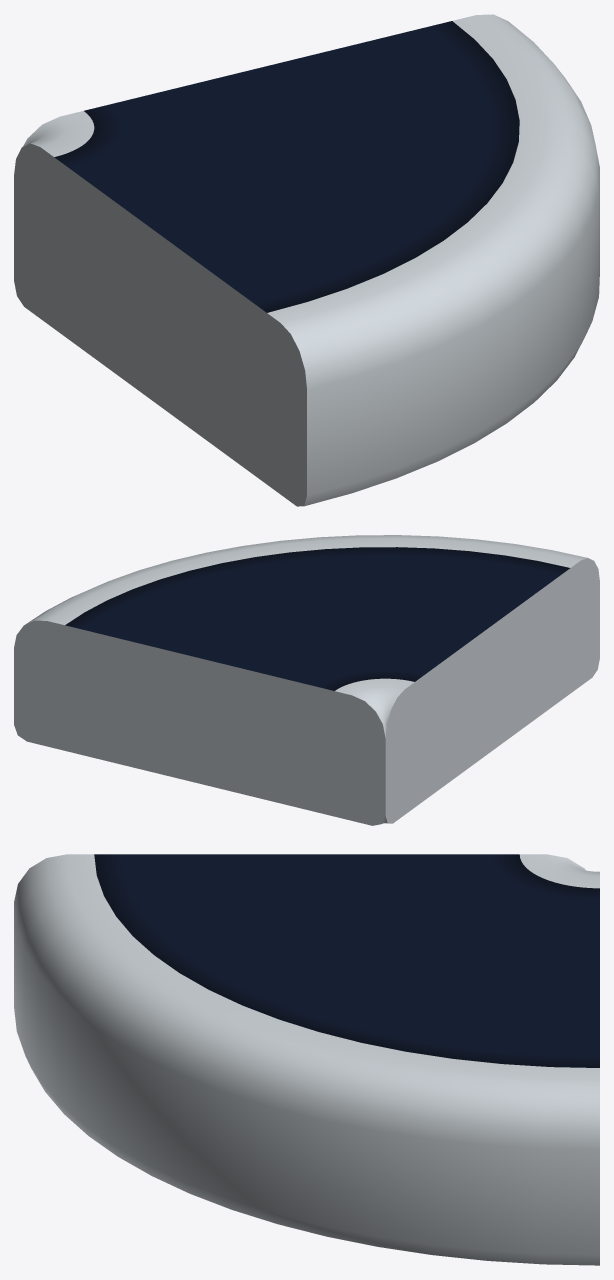
Rendered from Track_Corner.fbx.
3 views of the same model, one above another, from view 1: azimuth 30°, elevation 25°; view 2: azimuth 150°, elevation 25°; view 3: azimuth 270°, elevation 25° (orthographic). The views are drawn at different scales.
Visible parts, largest first — view 1: Track_Corner; view 2: Track_Corner; view 3: Track_Corner.
Part boxes in pixels (x1,y1,x2,y2): Track_Corner: (14,14,599,506); Track_Corner: (14,535,599,825); Track_Corner: (14,854,599,1265).
Size of the model in its own units: 1 by 0.323 by 1.
